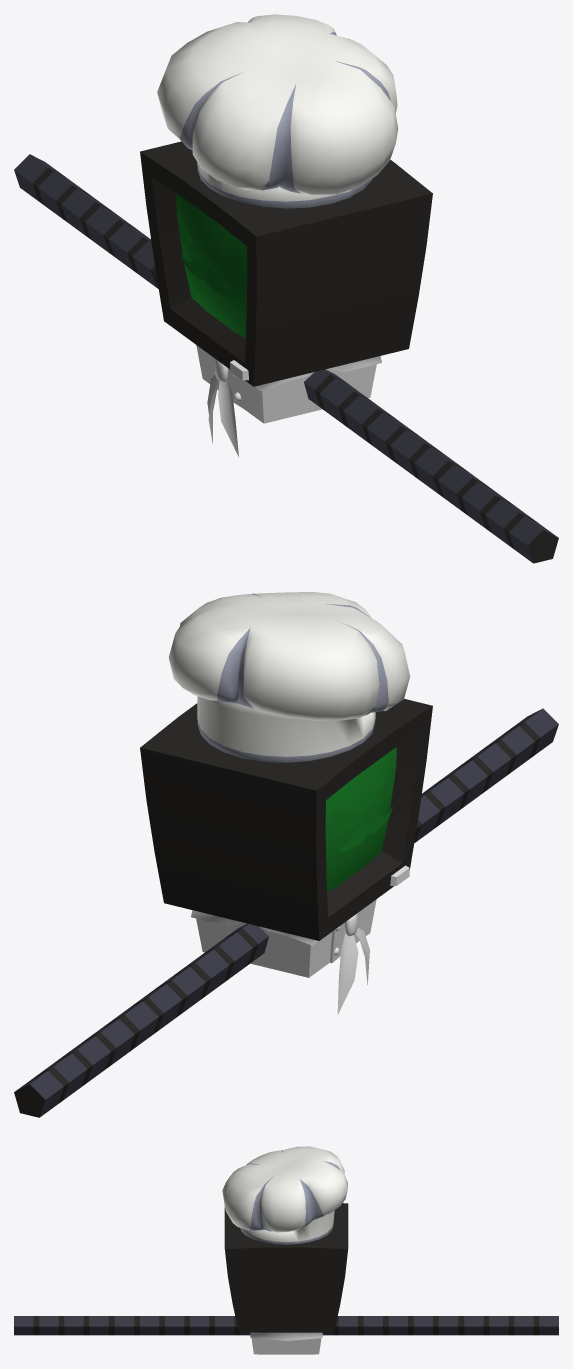
The model's file is pizza boss.fbx.
The picture shows the model from 3 angles, top to bottom: view 1: azimuth 30°, elevation 25°; view 2: azimuth 150°, elevation 25°; view 3: azimuth 270°, elevation 25°; orthographic projection. The views are drawn at different scales.
Visible parts, largest first — view 1: Cube.002, Cylinder.012, Cylinder.010, Cube.006, Circle.003, Plane.008; view 2: Cube.002, Cylinder.012, Cylinder.010, Cube.006, Circle.003, Plane.009; view 3: Cube.002, Cylinder.012, Cylinder.010, Cube.006, Plane.005.
Part boxes in pixels (left/top/right/bottom): Cube.002: left=140, top=141, right=432, bottom=386; Cylinder.012: left=157, top=14, right=398, bottom=208; Cylinder.010: left=14, top=154, right=558, bottom=563; Cube.006: left=196, top=345, right=376, bottom=423; Circle.003: left=178, top=210, right=241, bottom=297; Plane.008: left=218, top=377, right=238, bottom=456; Cube.002: left=140, top=699, right=432, bottom=940; Cylinder.012: left=168, top=592, right=410, bottom=762; Cylinder.010: left=14, top=708, right=558, bottom=1117; Cube.006: left=196, top=899, right=376, bottom=977; Circle.003: left=331, top=765, right=394, bottom=852; Plane.009: left=337, top=931, right=358, bottom=1014; Cube.002: left=224, top=1203, right=348, bottom=1332; Cylinder.012: left=222, top=1146, right=347, bottom=1244; Cylinder.010: left=14, top=1316, right=558, bottom=1335; Cube.006: left=251, top=1338, right=321, bottom=1354; Plane.005: left=250, top=1332, right=322, bottom=1340.
Size of the model in its own units: 264 by 480 by 1145.
